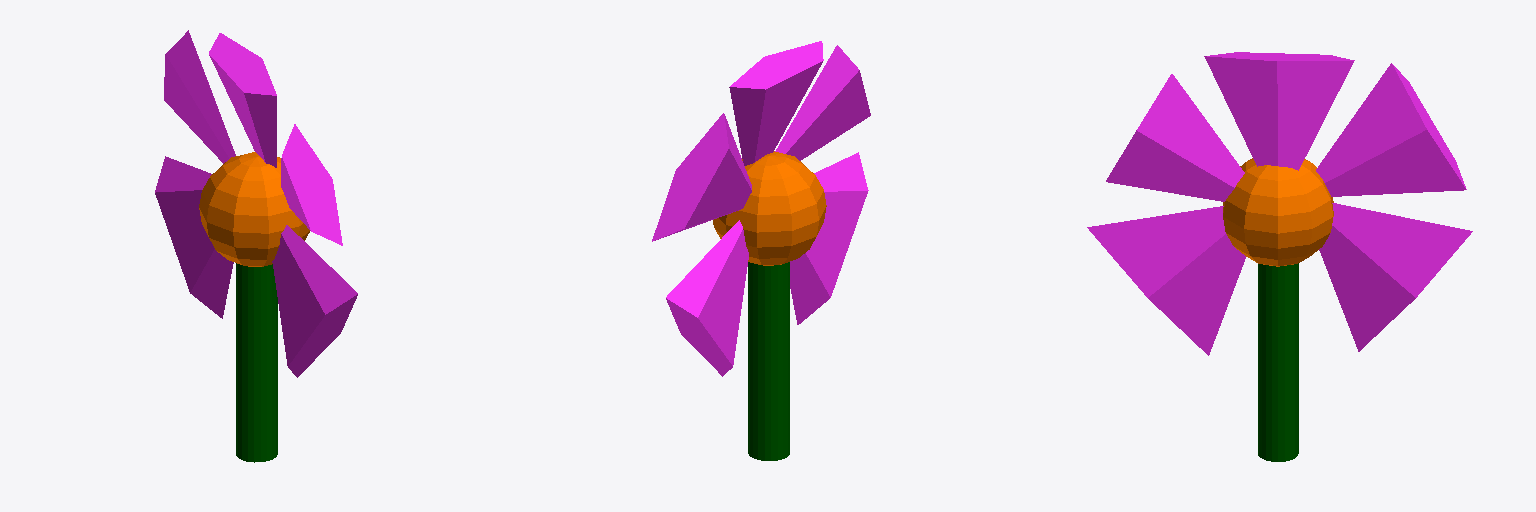
File: Flower.obj
3 views of the same model, side by side, from view 1: azimuth 30°, elevation 25°; view 2: azimuth 150°, elevation 25°; view 3: azimuth 270°, elevation 25° (orthographic).
Visible parts, largest first — view 1: pSphere1, pCylinder1, pCylinder7, pCylinder4, pCylinder8, pCylinder3, pCylinder5; view 2: pCylinder1, pSphere1, pCylinder4, pCylinder8, pCylinder3, pCylinder7, pCylinder5; view 3: pCylinder7, pCylinder4, pCylinder3, pCylinder8, pCylinder5, pSphere1, pCylinder1.
Boxes of the visible parts, <box> form: pSphere1: <box>199,152,309,266</box>; pCylinder1: <box>236,263,277,462</box>; pCylinder7: <box>272,225,357,377</box>; pCylinder4: <box>155,156,233,318</box>; pCylinder8: <box>209,33,276,167</box>; pCylinder3: <box>164,30,235,163</box>; pCylinder5: <box>281,124,342,245</box>; pCylinder1: <box>748,262,789,460</box>; pSphere1: <box>713,151,826,265</box>; pCylinder4: <box>666,220,748,376</box>; pCylinder8: <box>729,41,823,165</box>; pCylinder3: <box>652,113,751,241</box>; pCylinder7: <box>790,152,868,324</box>; pCylinder5: <box>775,45,870,160</box>; pCylinder7: <box>1087,206,1245,355</box>; pCylinder4: <box>1319,203,1472,351</box>; pCylinder3: <box>1316,63,1466,196</box>; pCylinder8: <box>1204,52,1354,170</box>; pCylinder5: <box>1106,74,1244,201</box>; pSphere1: <box>1223,158,1333,266</box>; pCylinder1: <box>1258,263,1298,461</box>.
Size of the model in its own units: 2 by 7.48 by 6.65.